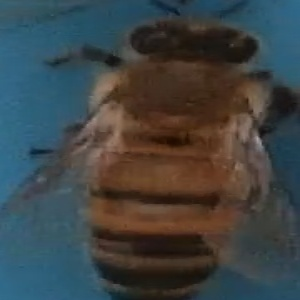bee: (42, 2, 297, 300)
